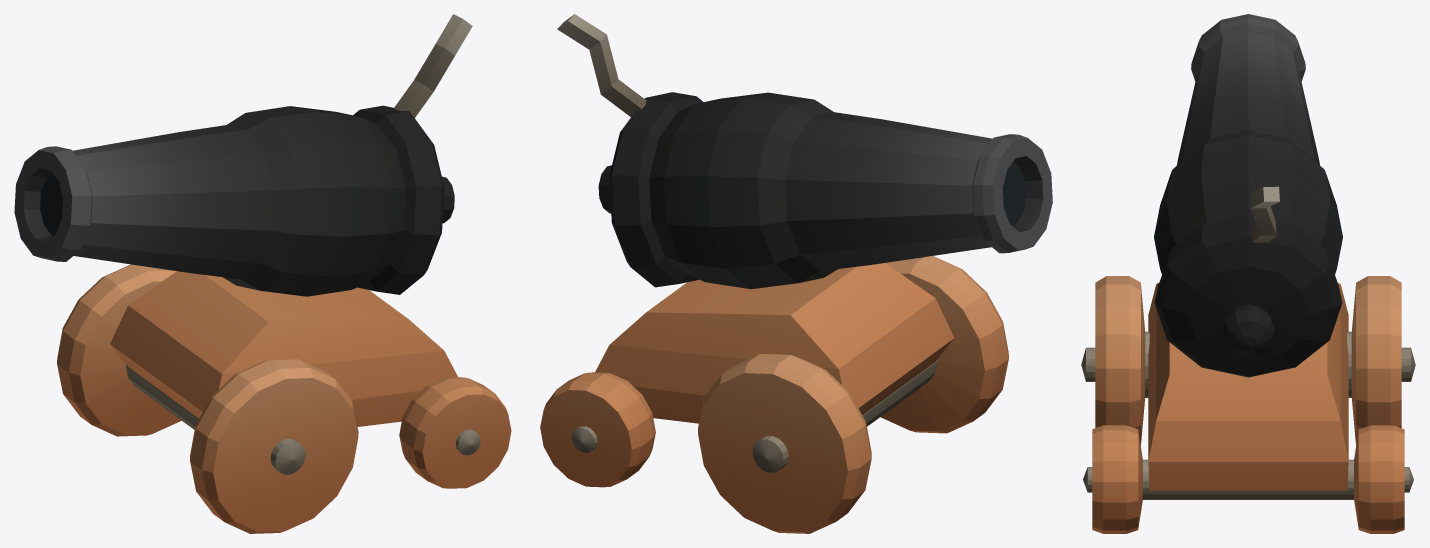
File: cannon.fbx
3 views of the same model, side by side, from view 1: azimuth 30°, elevation 25°; view 2: azimuth 150°, elevation 25°; view 3: azimuth 270°, elevation 25° (orthographic). The views are drawn at different scales.
Visible parts, largest first — view 1: cannon; view 2: cannon; view 3: cannon.
Part boxes in pixels (<box>): cannon: <box>14,14,511,533</box>; cannon: <box>540,14,1052,533</box>; cannon: <box>1081,14,1415,533</box>.
Bounding box in the file's own units: 1.52 × 1.27 × 0.9995.
